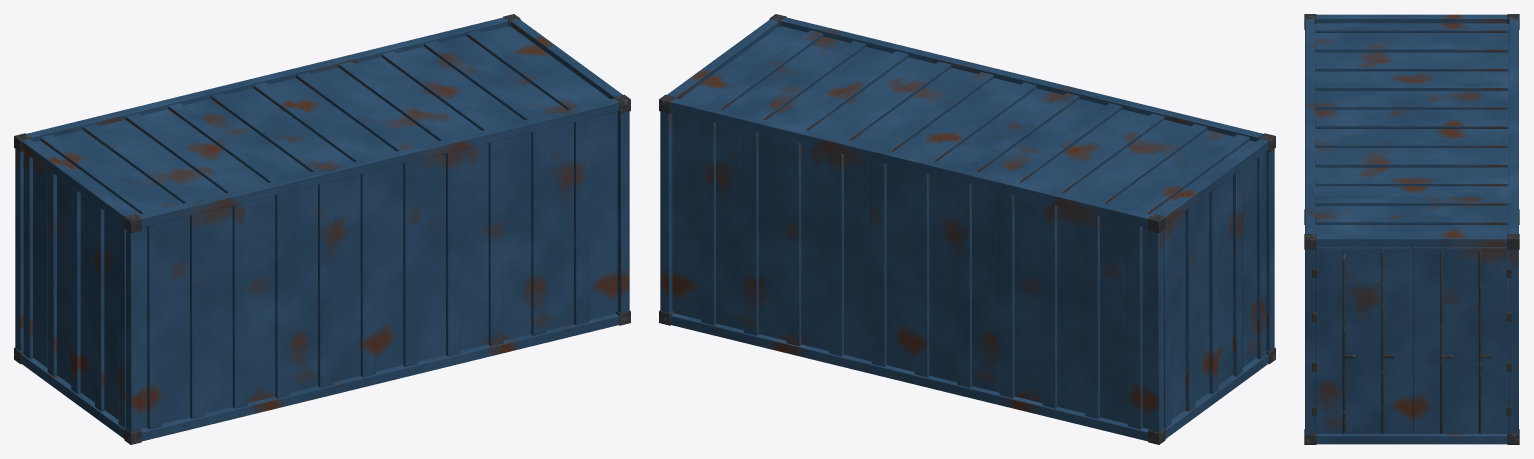
The model's file is COV_Container_20ft_Blue.glb.
3 renders of one model, left to right at view 1: azimuth 30°, elevation 25°; view 2: azimuth 150°, elevation 25°; view 3: azimuth 270°, elevation 25°, orthographic. The views are drawn at different scales.
Parts seen in each view (by area): view 1: COV_Container_20ft_Blue_Mesh; view 2: COV_Container_20ft_Blue_Mesh; view 3: COV_Container_20ft_Blue_Mesh.
Part boxes in pixels (bbox=[...]): COV_Container_20ft_Blue_Mesh: bbox=[14, 14, 630, 444]; COV_Container_20ft_Blue_Mesh: bbox=[659, 14, 1275, 444]; COV_Container_20ft_Blue_Mesh: bbox=[1304, 14, 1519, 444].
Size of the model in its own units: 6.11 by 2.6 by 2.46.
2 materials, 2 textured.
